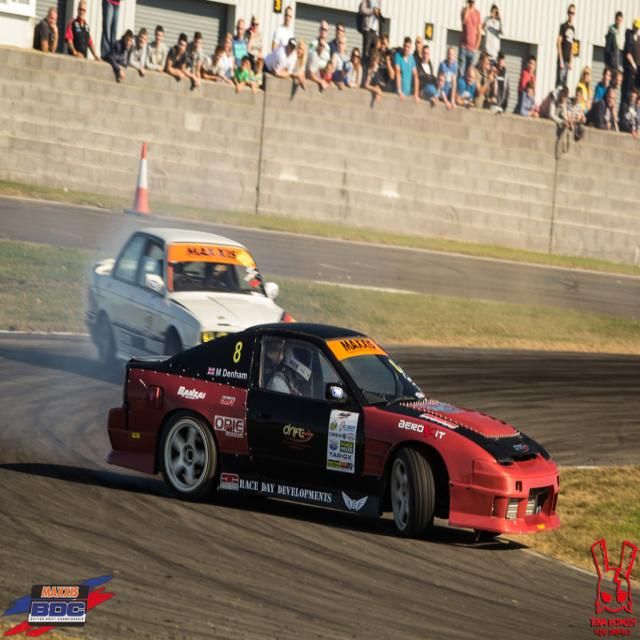car: (106, 304, 570, 537)
